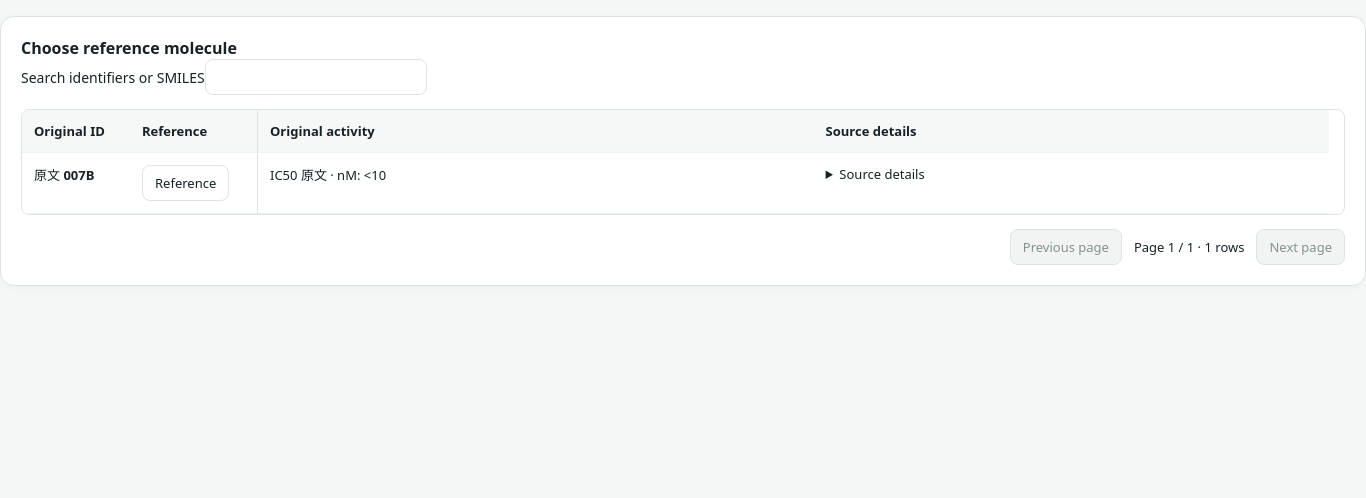
Test case: reference selection work area › keeps raw source details on demand, without changing the original row header
Expected: the column heading "原文 007B" is shown, x1=22 y1=153 x2=130 y2=214
Expected: the text "[13CH3][C@H](O)Cl" is not shown
Click the heading "Source details" at (882, 174), box x1=839 y1=165 x2=925 y2=183
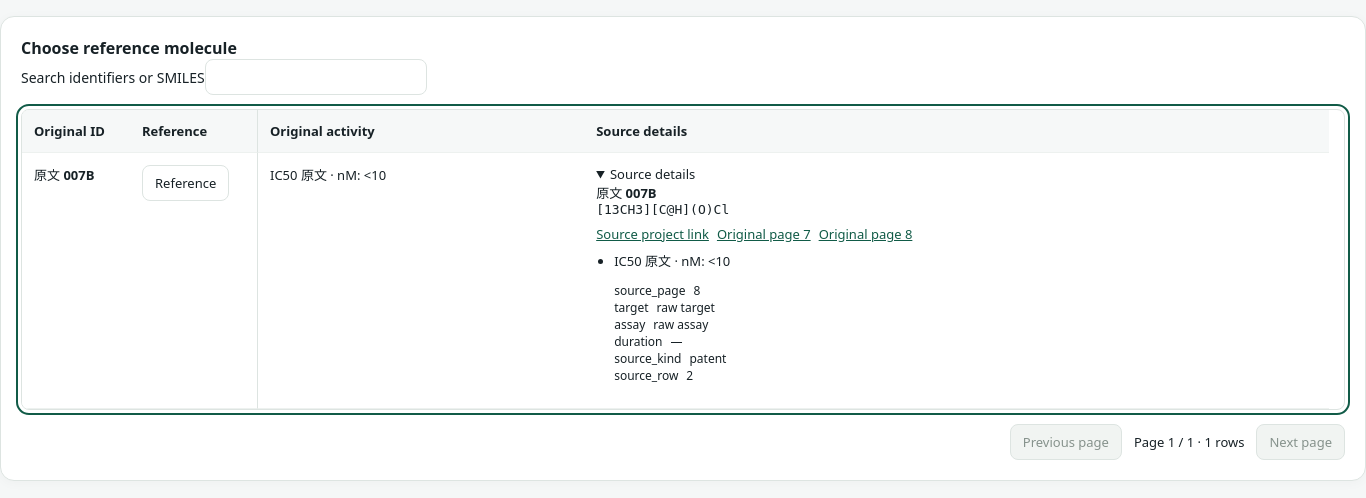
Expected: the column heading "原文 007B" is shown, x1=22 y1=153 x2=130 y2=409
Expected: the text "[13CH3][C@H](O)Cl" is shown, x1=596 y1=202 x2=729 y2=217
